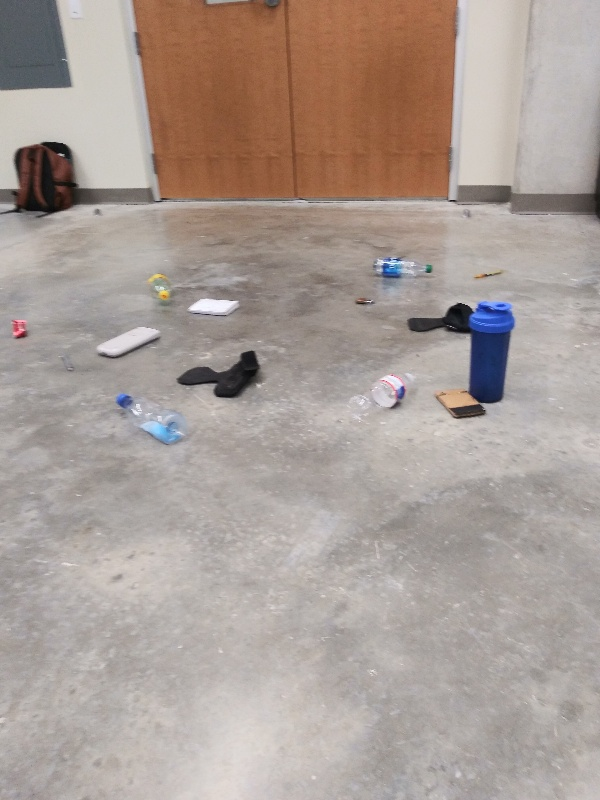bottle: (110, 388, 189, 449), (346, 367, 421, 431), (369, 254, 437, 287), (140, 266, 173, 307)
